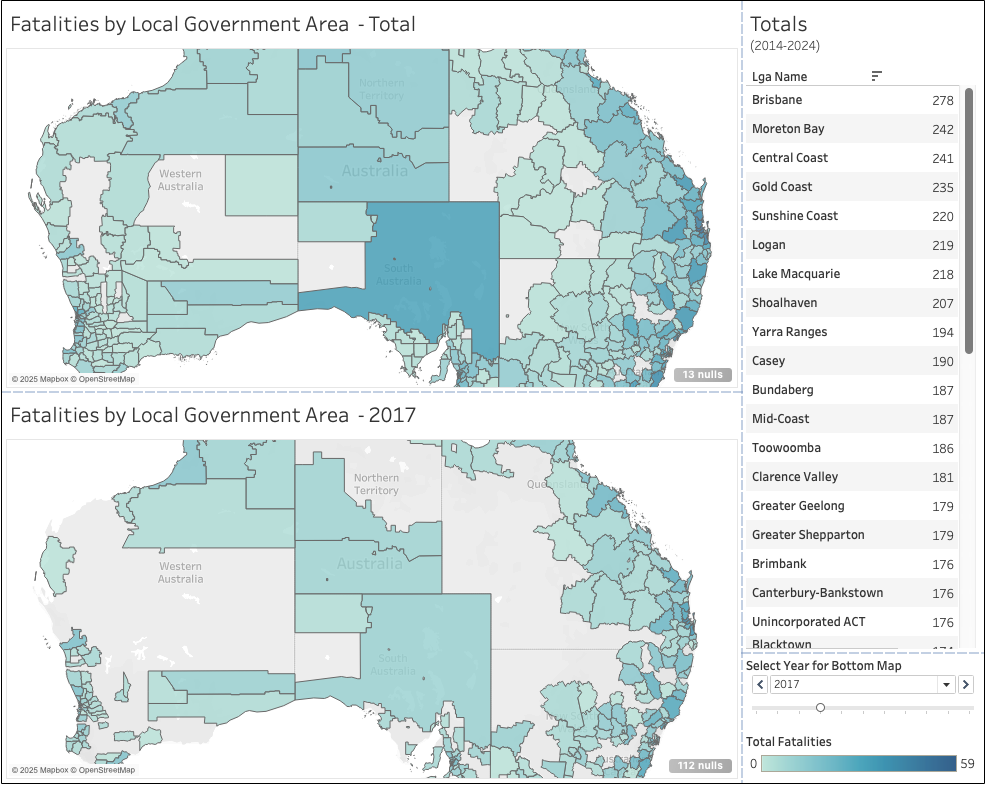

This screenshot's page, from the dashboard's own definition file:
{"tool":"tableau","page":{"name":"Q1 Dashboard","canvas":[1000,800],"ordinal":0},"visuals":[{"type":"worksheet","title":"Q1 (Map) - Total","mark":"Automatic","box":[9,9,740.5,391]},{"type":"worksheet","title":"Q1 (Table) - Total","mark":"Automatic","rows":["lga_name"],"box":[749.5,9,241.5,652.3]},{"type":"worksheet","title":"Q1 (Map) - By Year","mark":"Automatic","box":[9,400,740.5,391]},{"type":"currpage","title":"Q1 (Map) - By Year","box":[749.5,661.3,241.5,76]},{"type":"legend","title":"Q1 (Map) - By Year","param":"[federated.1wfdz7n02o1au31cu2g5l049lc14].[sum:total_fatalities:qk]","box":[749.5,737.3,241.5,53.7]}]}

Visuals, with their boxes in screenshot pixels (x1, y1, x2, y2), scaled from the page's 1000x800 canvas onto the 987x786 screenshot:
"Q1 (Map) - Total" worksheet: 9, 9, 740, 393
"Q1 (Table) - Total" worksheet: 740, 9, 978, 650
"Q1 (Map) - By Year" worksheet: 9, 393, 740, 777
"Q1 (Map) - By Year" currpage: 740, 650, 978, 724
"Q1 (Map) - By Year" legend: 740, 724, 978, 777
